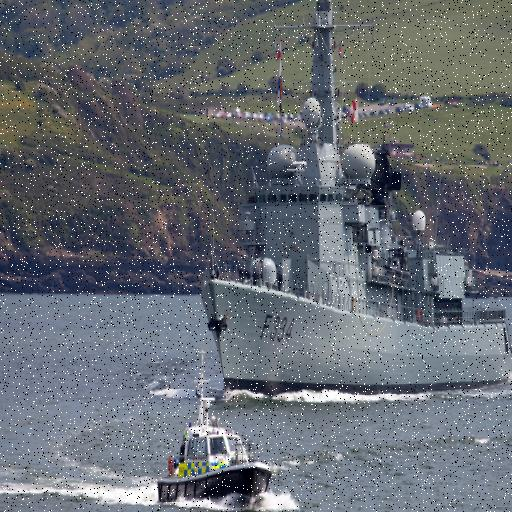Fragata: (193, 1, 512, 402)
